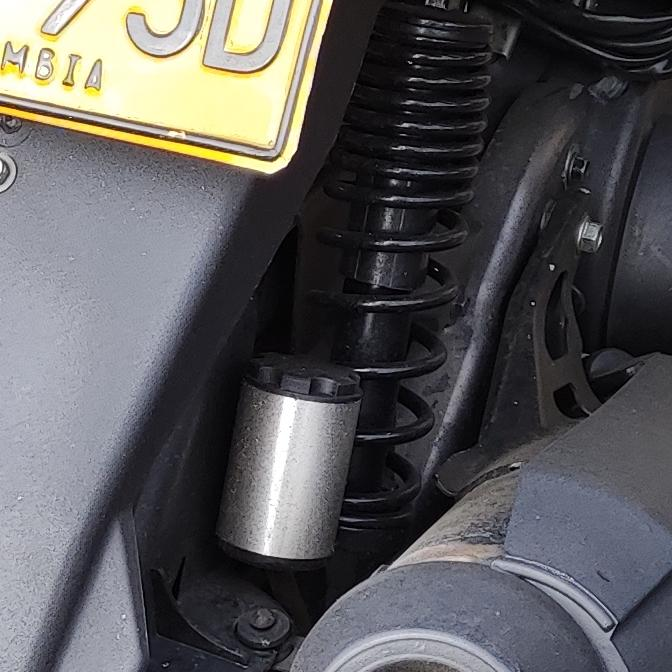plates: (0, 0, 324, 182)
